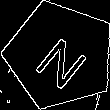N_NE: (28, 23, 93, 88)
